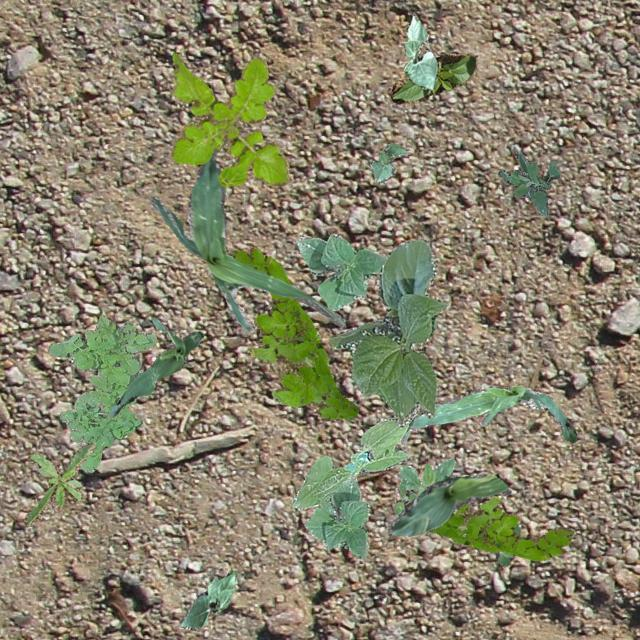crop: (148, 147, 344, 330), (328, 237, 447, 426), (290, 409, 416, 514), (400, 384, 576, 442), (109, 316, 202, 416), (386, 474, 510, 534), (296, 232, 386, 310), (304, 474, 368, 556), (389, 52, 476, 102), (178, 570, 235, 628), (402, 15, 438, 89), (368, 142, 408, 182)
weed: (225, 248, 358, 420), (46, 314, 156, 472), (170, 52, 288, 186), (426, 496, 572, 560), (22, 440, 94, 526), (394, 458, 454, 534), (498, 150, 558, 216), (488, 524, 520, 566)
